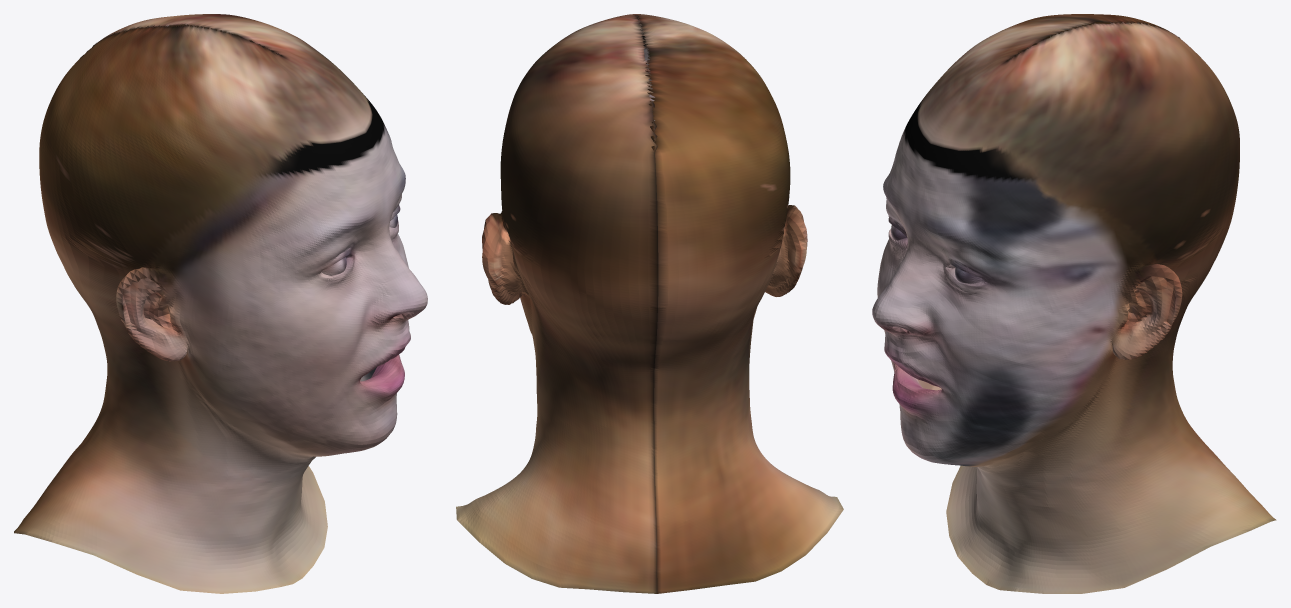
Rendered from cheo1_frame0009_detail.obj.
The picture shows the model from 3 angles, left to right: view 1: azimuth 30°, elevation 25°; view 2: azimuth 150°, elevation 25°; view 3: azimuth 270°, elevation 25°; orthographic projection.
Size of the model in its own units: 0.2141 by 0.3206 by 0.2209.
